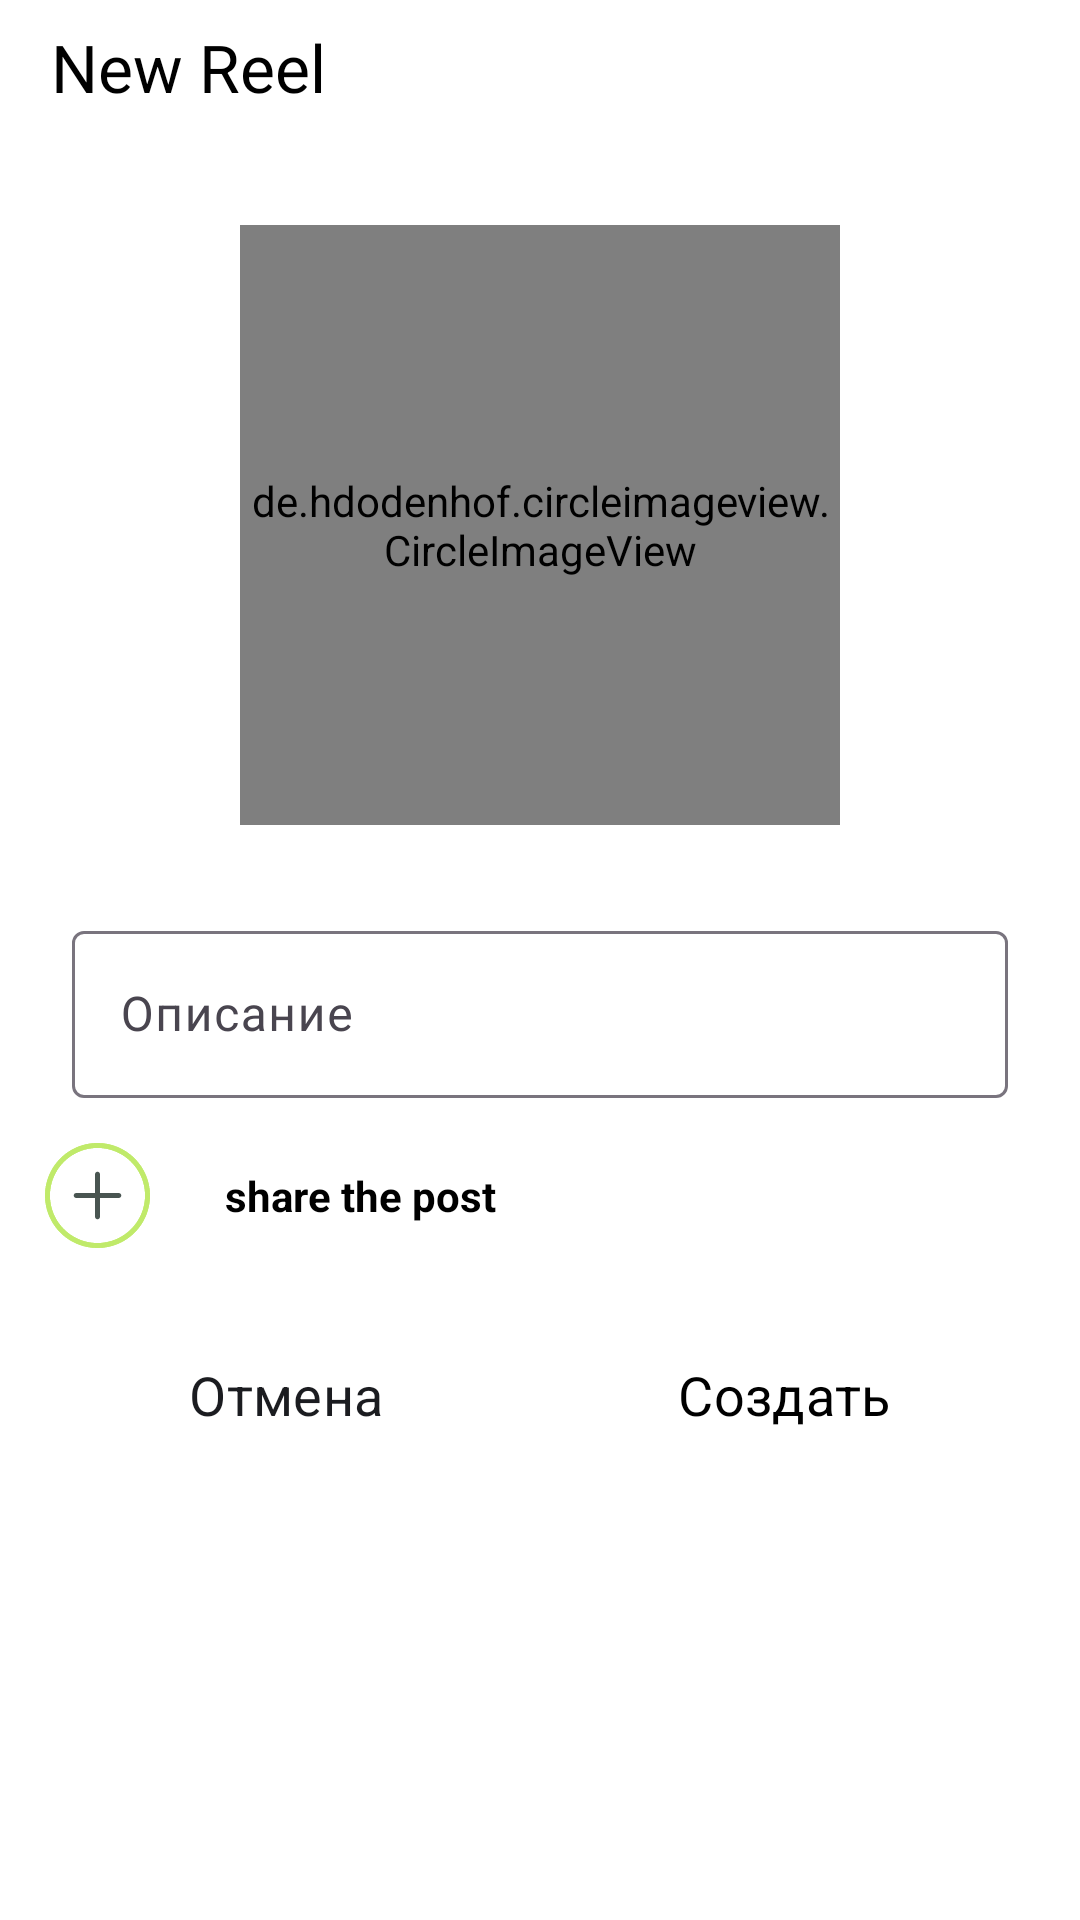

Icons on this 1080 × 1920 Android screen, each with the point to tap as (x=x, y=y):
add: (x=97, y=1195)
